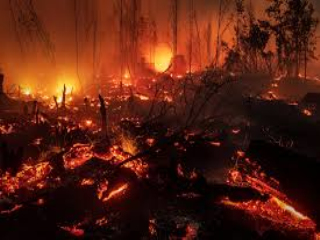fire: (11, 120, 300, 226), (11, 70, 79, 103), (142, 40, 180, 75)
